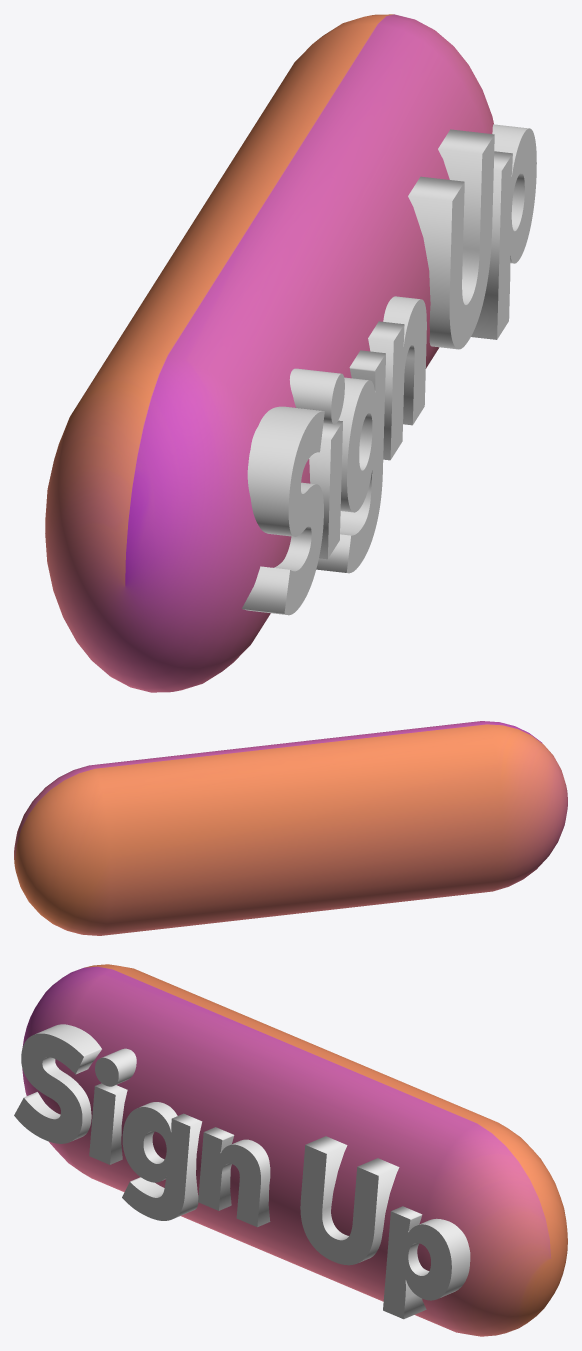
Rendered from signup.glb.
The picture shows the model from 3 angles, top to bottom: view 1: azimuth 30°, elevation 25°; view 2: azimuth 150°, elevation 25°; view 3: azimuth 270°, elevation 25°; orthographic projection. The views are drawn at different scales.
Parts seen in each view (by area): view 1: signup.001; view 2: signup.001; view 3: signup.001.
Boxes of the visible parts, x1=… form: signup.001: x1=45, y1=14, x2=536, y2=692; signup.001: x1=14, y1=721, x2=567, y2=935; signup.001: x1=14, y1=964, x2=567, y2=1336.
Bounding box in the file's own units: 2.91 × 1.2 × 2.89.
Materials: 2 (1 with a texture image).
